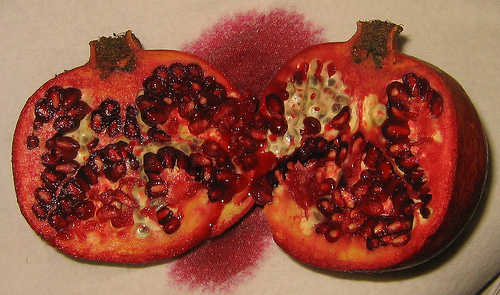pomogranate: (11, 21, 488, 279)
